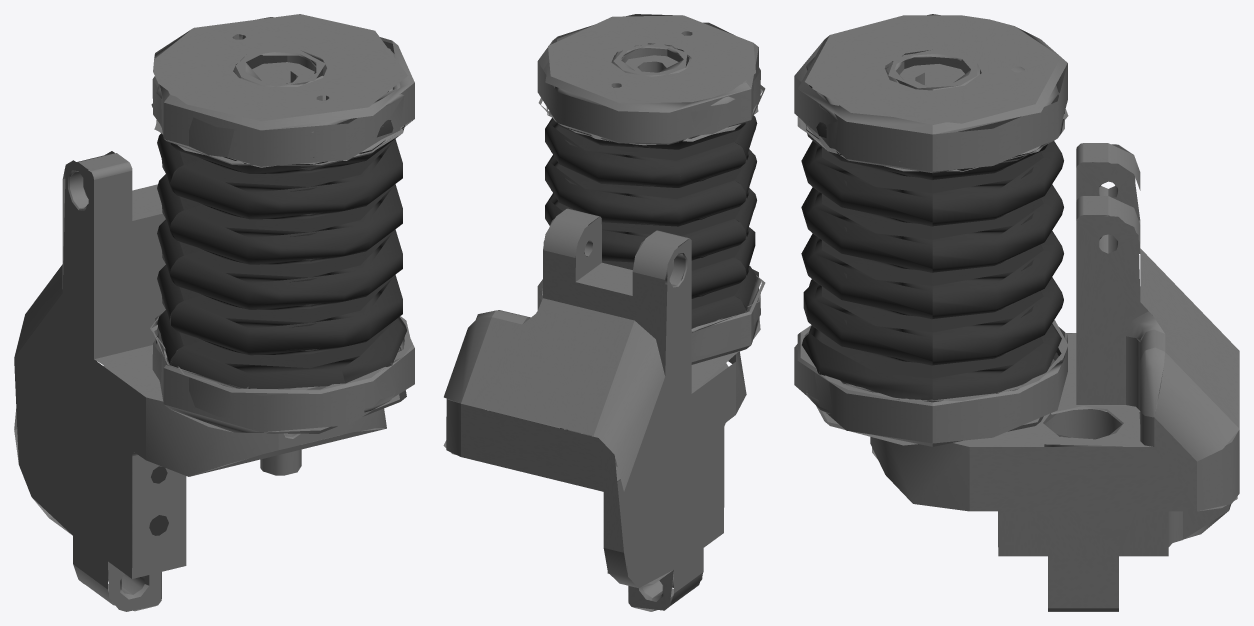
File: handr_finger_thumb1_joint.obj
The picture shows the model from 3 angles, left to right: view 1: azimuth 30°, elevation 25°; view 2: azimuth 150°, elevation 25°; view 3: azimuth 270°, elevation 25°; orthographic projection. The views are drawn at different scales.
Size of the model in its own units: 0.0195 by 0.0448 by 0.0314.
1 material, 1 textured.
